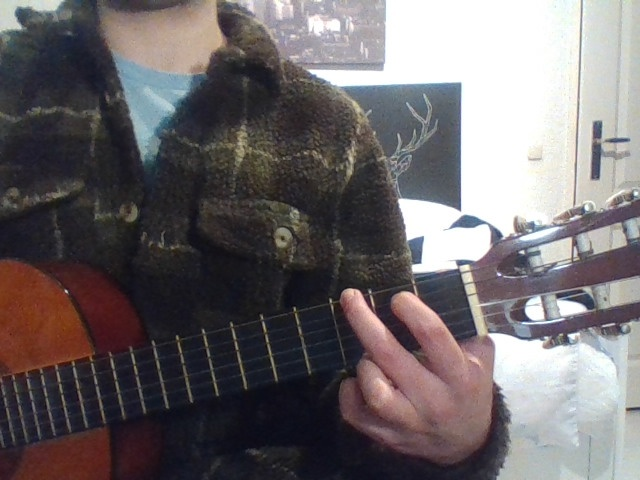G: (314, 271, 549, 477)
